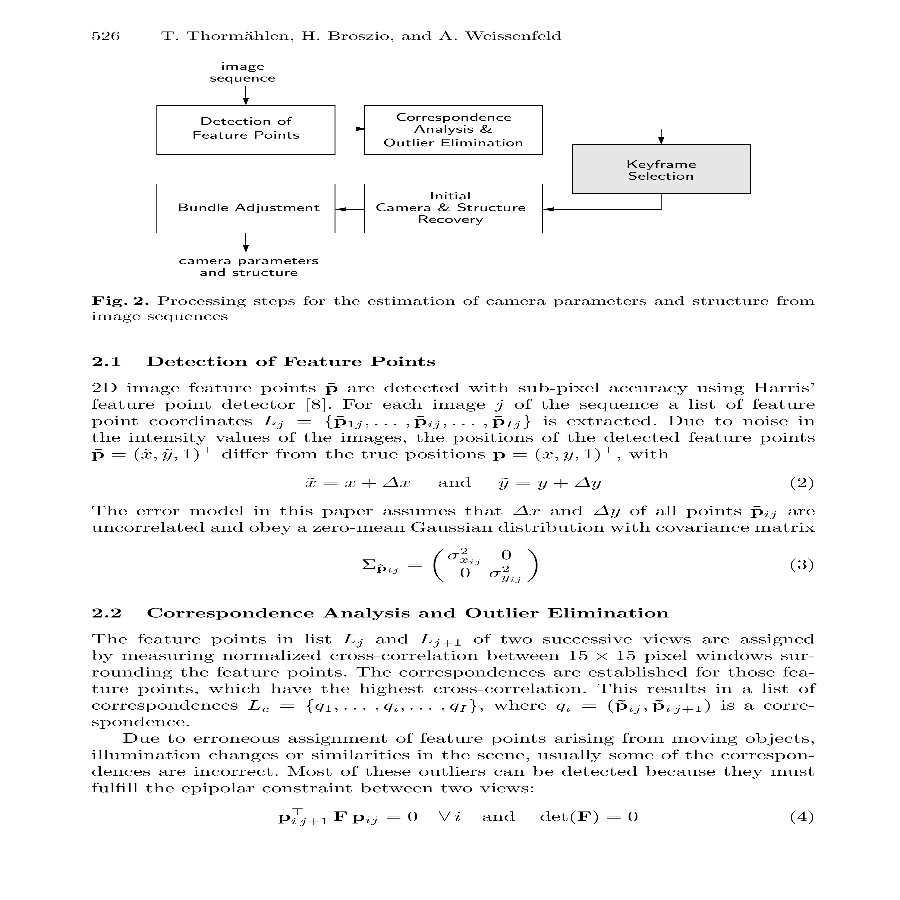eq: (360, 544, 544, 589), (275, 804, 467, 827), (492, 475, 607, 493), (537, 808, 644, 827), (303, 473, 414, 491)
